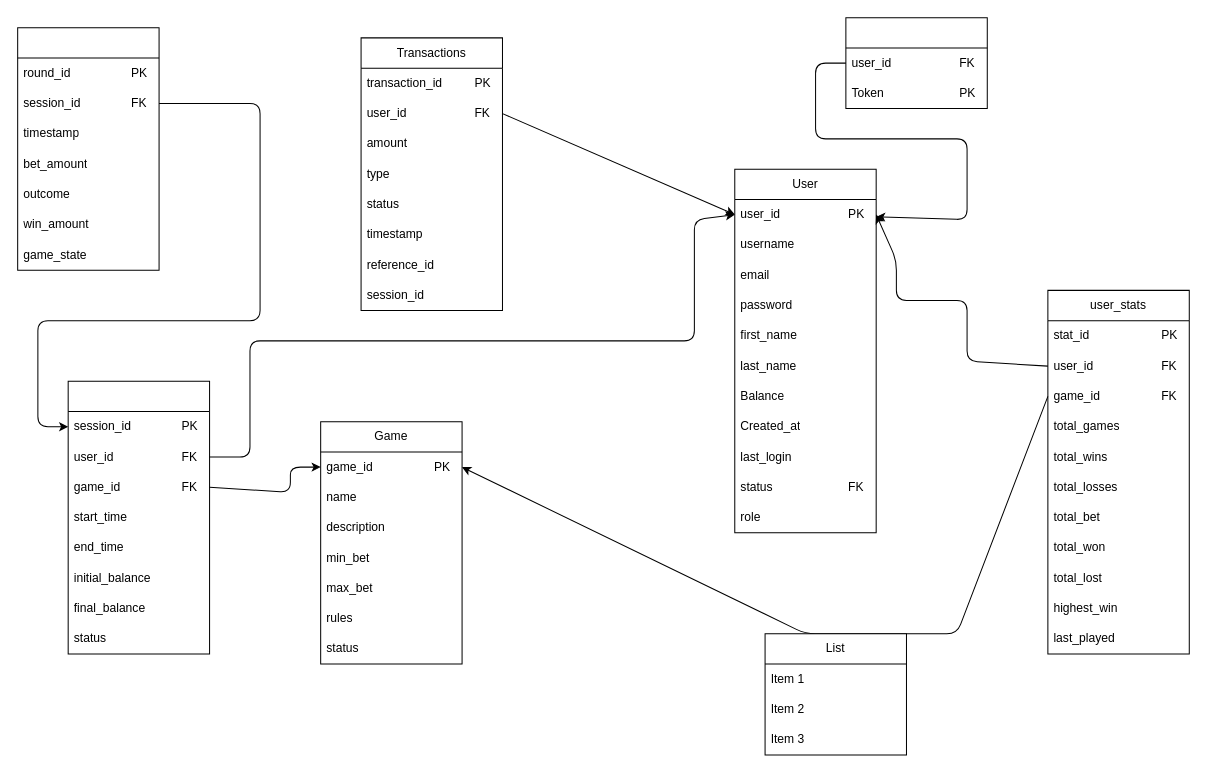
This 1207x773 diagram has some shape labels left out. The shapes that lost their labels are listed below. From the top down, each one's box as (x1, y1, x2, y2) in pixels, then its label:
(845, 17, 987, 109): user_authentification
(17, 27, 159, 270): Game_Rounds
(67, 380, 210, 654): Game_Sessions
